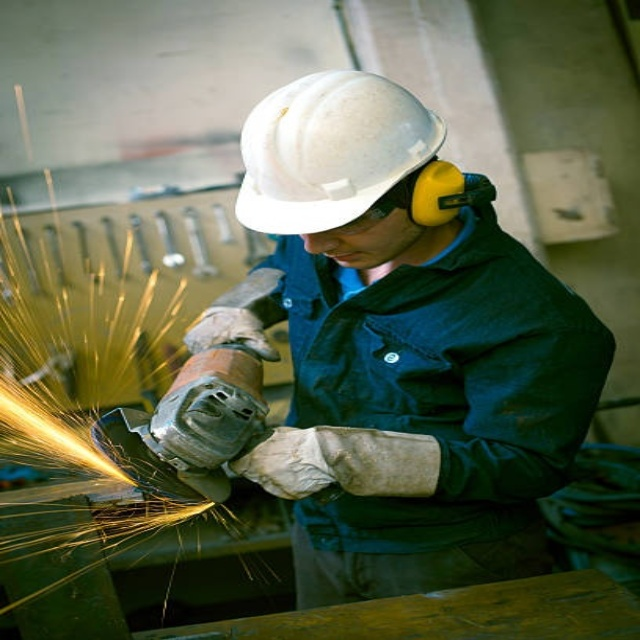Gafas: (325, 179, 411, 237)
Guantes: (224, 424, 449, 506), (176, 265, 290, 359)
Sin_mascara: (309, 249, 378, 272)
